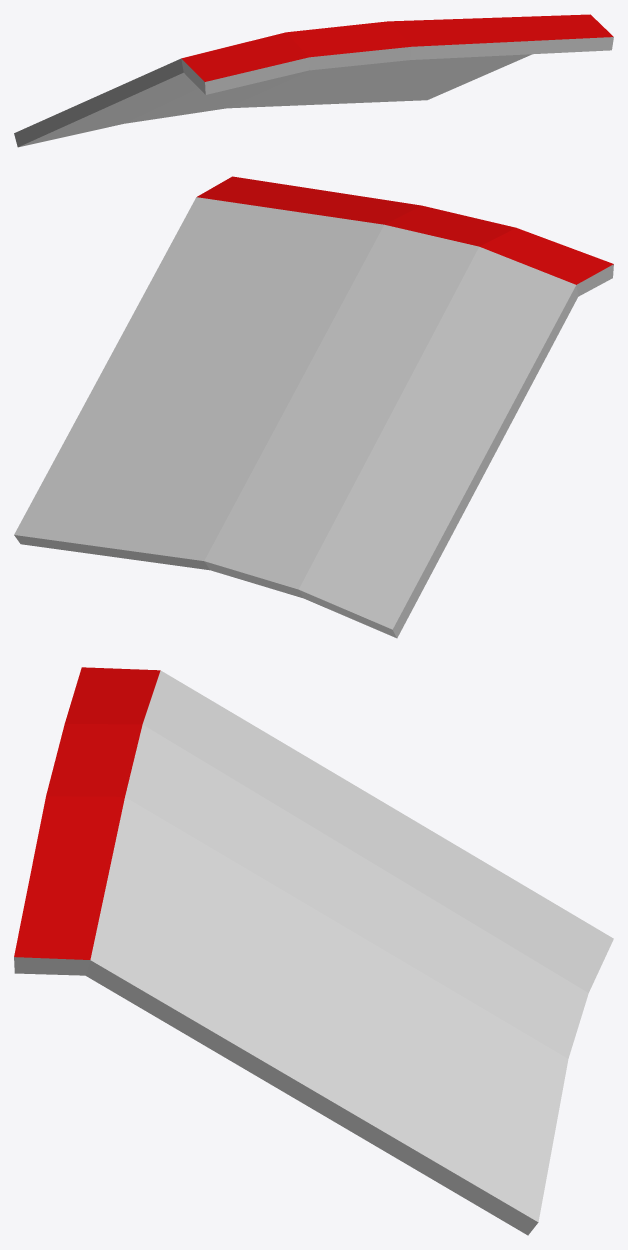
File: SB Side Hatch ZUP anim.fbx
3 views of the same model, one above another, from view 1: azimuth 30°, elevation 25°; view 2: azimuth 150°, elevation 25°; view 3: azimuth 270°, elevation 25° (orthographic). The views are drawn at different scales.
Parts seen in each view (by area): view 1: SB Side Hatch Ani; view 2: SB Side Hatch Ani; view 3: SB Side Hatch Ani.
Boxes of the visible parts, left/top/right/bottom form: SB Side Hatch Ani: left=14, top=14, right=613, bottom=147; SB Side Hatch Ani: left=14, top=176, right=613, bottom=638; SB Side Hatch Ani: left=14, top=667, right=613, bottom=1235.
Size of the model in its own units: 153 by 154 by 91.32.
